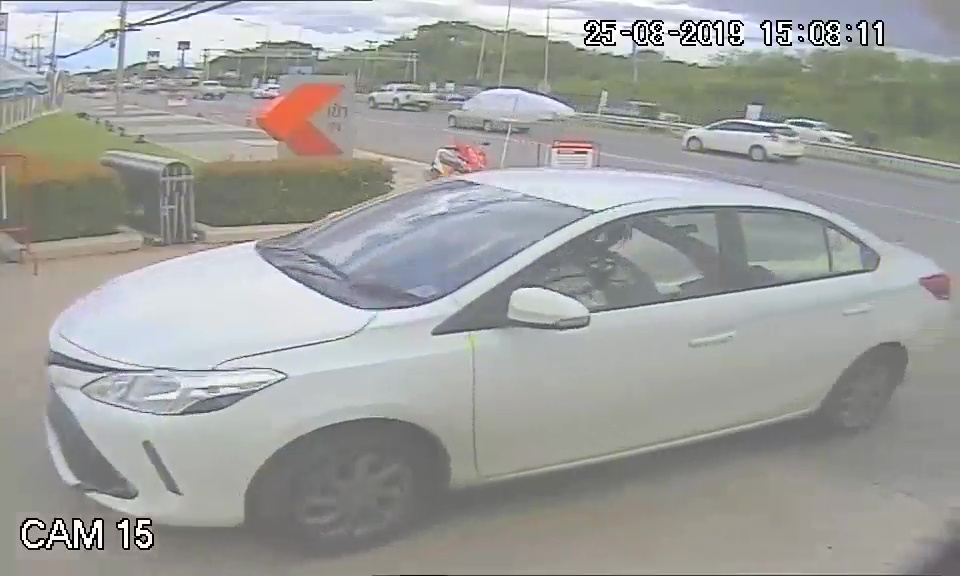sedan: (30, 166, 769, 536)
